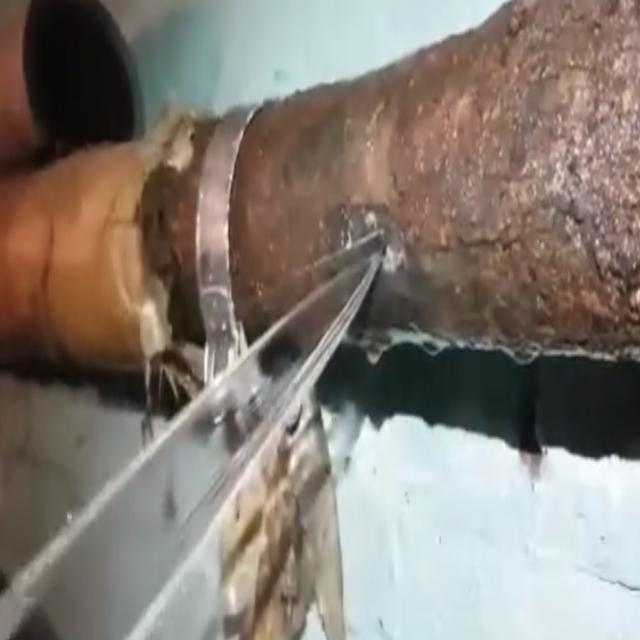leak: (0, 233, 381, 636)
